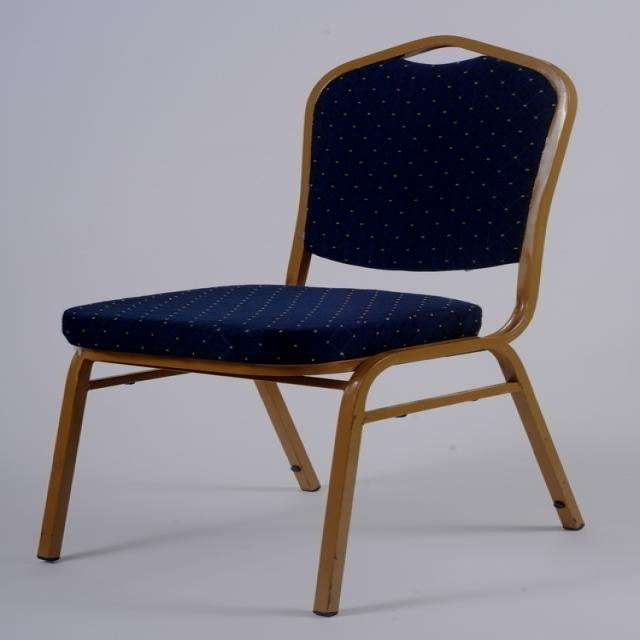Chair: (31, 35, 600, 622)
